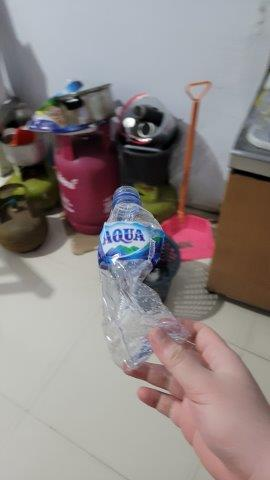botolplastik: (95, 186, 192, 370)
